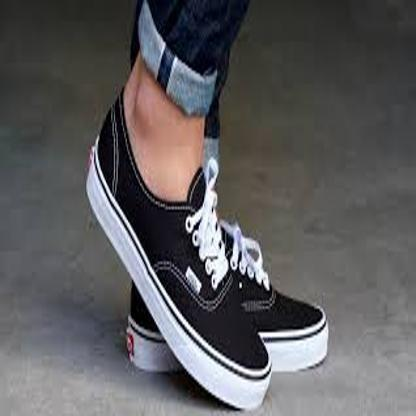not trash: (87, 90, 274, 412), (103, 216, 336, 372)
